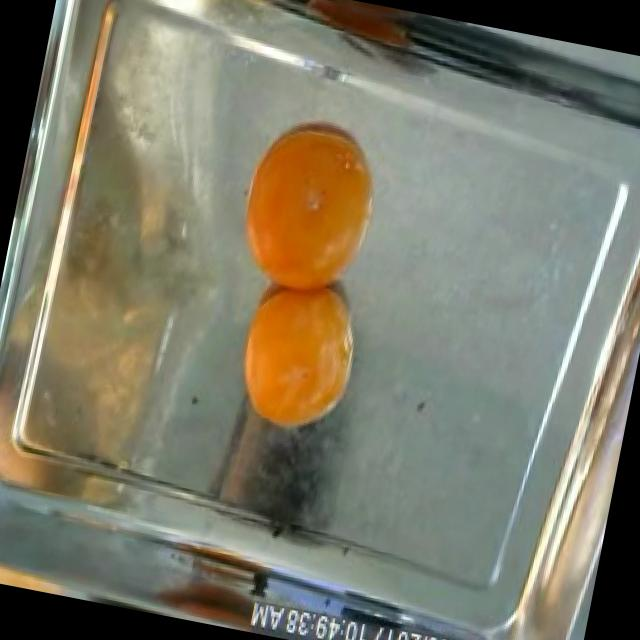Fruit: (8, 252, 202, 501), (216, 83, 410, 317), (217, 254, 383, 454)
